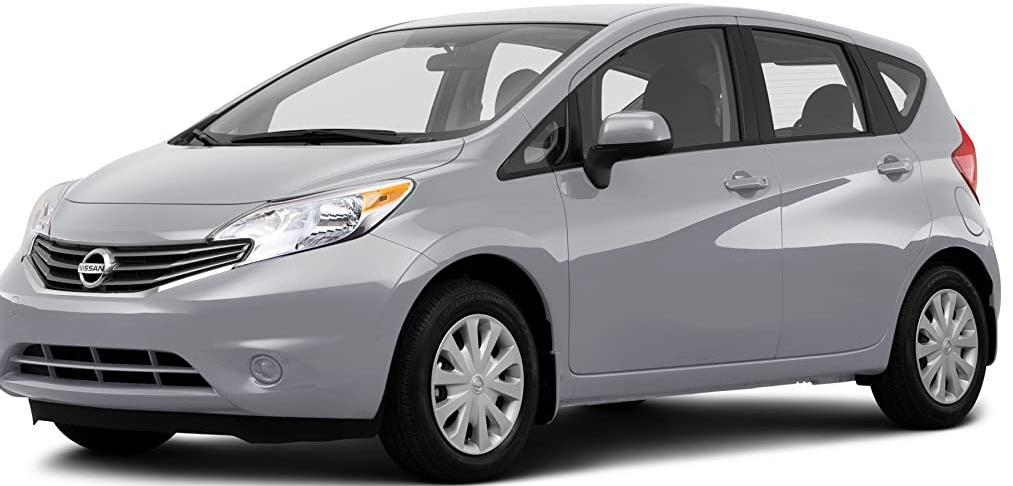Cars: (0, 6, 1003, 481)
